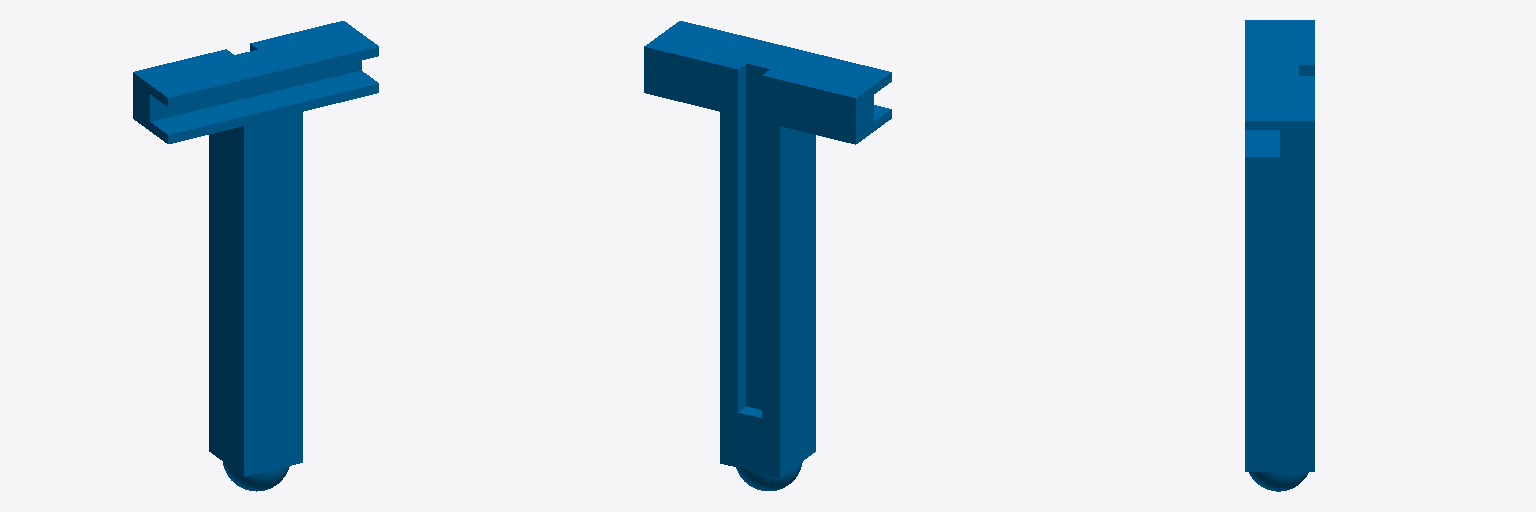
URDF robot description (BECOV2):
<robot name="BECOV2" version="1.0">
  <joint name="LEG_LEFT_LEFT_JOINT" type="prismatic">
    <limit lower="-0.0300" upper="0.00000" effort="1.00000" velocity="0.10000"/>
    <origin rpy="0.00000 0.00000 0.00000" xyz="-0.02465 -0.03079 -0.04494"/>
    <parent link="VISUAL_LEFTBODY_LINK"/>
    <child link="VISUAL_LEG_LEFT_LEFT_LINK"/>
    <axis xyz="0.00000 0.00000 1.00000"/>
  </joint>
  <joint name="LEG_LEFT_RIGHT_JOINT" type="prismatic">
    <limit lower="-0.0300" upper="0.00000" effort="1.00000" velocity="0.10000"/>
    <origin rpy="0.00000 0.00000 0.00000" xyz="0.02372 -0.03079 -0.04494"/>
    <parent link="VISUAL_LEFTBODY_LINK"/>
    <child link="VISUAL_LEG_LEFT_RIGHT_LINK"/>
    <axis xyz="0.00000 0.00000 1.00000"/>
  </joint>
  <joint name="LEG_RIGHT_LEFT_JOINT" type="prismatic">
    <limit lower="-0.0300" upper="0.00000" effort="1.00000" velocity="0.10000"/>
    <origin rpy="0.00000 0.00000 0.00000" xyz="0.02646 0.01264 -0.04295"/>
    <parent link="VISUAL_RIGHTBODY_LINK"/>
    <child link="VISUAL_LEG_RIGHT_LEFT_LINK"/>
    <axis xyz="0.00000 0.00000 1.00000"/>
  </joint>
  <joint name="LEG_RIGHT_RIGHT_JOINT" type="prismatic">
    <limit lower="-0.0300" upper="0.00000" effort="1.00000" velocity="0.10000"/>
    <origin rpy="0.00000 0.00000 0.00000" xyz="-0.02190 0.01264 -0.04295"/>
    <parent link="VISUAL_RIGHTBODY_LINK"/>
    <child link="VISUAL_LEG_RIGHT_RIGHT_LINK"/>
    <axis xyz="0.00000 0.00000 1.00000"/>
  </joint>
  <joint name="RIGHTBODY_JOINT" type="fixed">
    <origin rpy="0.00000 0.00000 0.00000" xyz="-0.00067 0.03262 -0.02065"/>
    <parent link="VISUAL_SHAFT_LINK"/>
    <child link="VISUAL_RIGHTBODY_LINK"/>
  </joint>
  <joint name="SHAFT_JOINT" type="prismatic">
    <limit lower="0.00000" upper="0.09000" effort="1.00000" velocity="0.10000"/>
    <origin rpy="0.00000 0.00000 0.00000" xyz="-0.00207 0.06764 0.01866"/>
    <parent link="VISUAL_LEFTBODY_LINK"/>
    <child link="VISUAL_SHAFT_LINK"/>
    <axis xyz="0.00000 1.00000 0.00000"/>
  </joint>
  <link name="VISUAL_LEFTBODY_LINK">
    <collision name="LEFTBODYC1">
      <origin rpy="0.00000 0.00000 0.00000" xyz="-0.00043 -0.01087 -0.00050"/>
      <geometry>
        <box size="0.07056 0.06465 0.02289"/>
      </geometry>
    </collision>
    <collision name="LEFTBODYC2">
      <origin rpy="0.00000 0.00000 0.00000" xyz="-0.00043 -0.01093 -0.03282"/>
      <geometry>
        <box size="0.02304 0.06465 0.03785"/>
      </geometry>
    </collision>
    <collision name="LEFTBODYC3">
      <origin rpy="0.00000 0.00000 0.00000" xyz="-0.03262 -0.01093 -0.03282"/>
      <geometry>
        <box size="0.00636 0.06465 0.03785"/>
      </geometry>
    </collision>
    <collision name="LEFTBODYC4">
      <origin rpy="0.00000 0.00000 0.00000" xyz="-0.01675 -0.01093 -0.03282"/>
      <geometry>
        <box size="0.00636 0.06465 0.03785"/>
      </geometry>
    </collision>
    <collision name="LEFTBODYC5">
      <origin rpy="0.00000 0.00000 0.00000" xyz="0.01559 -0.01093 -0.03282"/>
      <geometry>
        <box size="0.00636 0.06465 0.03785"/>
      </geometry>
    </collision>
    <collision name="LEFTBODYC6">
      <origin rpy="0.00000 0.00000 0.00000" xyz="0.03146 -0.01093 -0.03282"/>
      <geometry>
        <box size="0.00636 0.06465 0.03785"/>
      </geometry>
    </collision>
    <inertial>
      <inertia ixx="0.00100" ixy="0.00000" ixz="0.00000" iyy="0.00100" iyz="0.00000" izz="0.00100"/>
      <origin rpy="0.00000 0.00000 0.00000" xyz="-0.00036 -0.01043 -0.00849"/>
      <mass value="0.00100"/>
    </inertial>
    <visual name="LEFTBODY_VISUAL">
      <origin rpy="0.00000 -1.57080 0.00000" xyz="-0.00036 -0.01043 -0.00849"/>
      <geometry>
        <mesh filename="../meshes/LEFTBODY.stl" scale="1.00000 1.00000 1.00000"/>
      </geometry>
    </visual>
  </link>
  <link name="VISUAL_LEG_LEFT_LEFT_LINK">
    <collision name="LEG_LEFT_LEFTC1">
      <origin rpy="0.00000 0.00000 0.00000" xyz="0.00023 -0.00038 0.00817"/>
      <geometry>
        <box size="0.00636 0.00674 0.03892"/>
      </geometry>
    </collision>
    <collision name="LEG_LEFT_LEFTC2">
      <origin rpy="0.00000 0.00000 0.00000" xyz="0.00019 -0.00045 -0.01436"/>
      <geometry>
        <mesh filename="../meshes/Sphere.001.stl" scale="1.00000 1.00000 1.00000"/>
      </geometry>
    </collision>
    <inertial>
      <inertia ixx="0.00100" ixy="0.00000" ixz="0.00000" iyy="0.00100" iyz="0.00000" izz="0.00100"/>
      <origin rpy="0.00000 0.00000 0.00000" xyz="0.00019 -0.00045 -0.01199"/>
      <mass value="0.00100"/>
    </inertial>
    <visual name="LEG_LEFT_LEFT_VISUAL">
      <origin rpy="1.57080 0.00000 0.00000" xyz="0.00019 -0.00045 -0.01210"/>
      <geometry>
        <mesh filename="../meshes/LEG_LEFT_RIGHT.stl" scale="1.00000 1.00000 1.00000"/>
      </geometry>
    </visual>
  </link>
  <link name="VISUAL_LEG_LEFT_RIGHT_LINK">
    <collision name="LEG_LEFT_RIGHTC1">
      <origin rpy="0.00000 0.00000 0.00000" xyz="-0.00045 -0.00038 0.00817"/>
      <geometry>
        <box size="0.00636 0.00674 0.03892"/>
      </geometry>
    </collision>
    <collision name="LEG_LEFT_RIGHTC2">
      <origin rpy="0.00000 0.00000 0.00000" xyz="-0.00041 -0.00045 -0.01436"/>
      <geometry>
        <mesh filename="../meshes/Sphere.002.stl" scale="1.00000 1.00000 1.00000"/>
      </geometry>
    </collision>
    <inertial>
      <inertia ixx="0.00100" ixy="0.00000" ixz="0.00000" iyy="0.00100" iyz="0.00000" izz="0.00100"/>
      <origin rpy="0.00000 0.00000 0.00000" xyz="-0.00030 -0.00045 -0.01199"/>
      <mass value="0.00100"/>
    </inertial>
    <visual name="LEG_LEFT_RIGHT_VISUAL">
      <origin rpy="1.57080 0.00000 0.00000" xyz="-0.00030 -0.00045 -0.01210"/>
      <geometry>
        <mesh filename="../meshes/LEG_LEFT_LEFT.stl" scale="1.00000 1.00000 1.00000"/>
      </geometry>
    </visual>
  </link>
  <link name="VISUAL_LEG_RIGHT_LEFT_LINK">
    <collision name="LEG_RIGHT_LEFTC1">
      <origin rpy="-0.00000 0.00000 0.00000" xyz="-0.00024 0.00047 0.00817"/>
      <geometry>
        <box size="0.00636 0.00674 0.03892"/>
      </geometry>
    </collision>
    <collision name="LEG_RIGHT_LEFTC2">
      <origin rpy="-0.00000 0.00000 0.00000" xyz="-0.00027 0.00041 -0.01436"/>
      <geometry>
        <mesh filename="../meshes/Sphere.004.stl" scale="1.00000 1.00000 1.00000"/>
      </geometry>
    </collision>
    <inertial>
      <inertia ixx="0.00100" ixy="0.00000" ixz="0.00000" iyy="0.00100" iyz="0.00000" izz="0.00100"/>
      <origin rpy="0.00000 0.00000 0.00000" xyz="-0.00030 0.00035 -0.01199"/>
      <mass value="0.00100"/>
    </inertial>
    <visual name="LEG_RIGHT_LEFT_VISUAL">
      <origin rpy="1.57080 -0.00000 -3.14159" xyz="-0.00030 0.00035 -0.01199"/>
      <geometry>
        <mesh filename="../meshes/LEG_RIGHT_RIGHT.stl" scale="1.00000 1.00000 1.00000"/>
      </geometry>
    </visual>
  </link>
  <link name="VISUAL_LEG_RIGHT_RIGHT_LINK">
    <collision name="LEG_RIGHT_RIGHTC1">
      <origin rpy="-0.00000 0.00000 0.00000" xyz="0.00023 0.00047 0.00817"/>
      <geometry>
        <box size="0.00636 0.00674 0.03892"/>
      </geometry>
    </collision>
    <collision name="LEG_RIGHT_RIGHTC2">
      <origin rpy="-0.00000 0.00000 0.00000" xyz="0.00019 0.00041 -0.01436"/>
      <geometry>
        <mesh filename="../meshes/Sphere.003.stl" scale="1.00000 1.00000 1.00000"/>
      </geometry>
    </collision>
    <inertial>
      <inertia ixx="0.00100" ixy="0.00000" ixz="0.00000" iyy="0.00100" iyz="0.00000" izz="0.00100"/>
      <origin rpy="0.00000 0.00000 0.00000" xyz="0.00019 0.00035 -0.01199"/>
      <mass value="0.00100"/>
    </inertial>
    <visual name="LEG_RIGHT_RIGHT_VISUAL">
      <origin rpy="1.57080 -0.00000 -3.14159" xyz="0.00019 0.00035 -0.01199"/>
      <geometry>
        <mesh filename="../meshes/LEG_RIGHT_RIGHT.001.stl" scale="1.00000 1.00000 1.00000"/>
      </geometry>
    </visual>
  </link>
  <link name="VISUAL_RIGHTBODY_LINK">
    <collision name="RIGHTBODYC1">
      <origin rpy="0.00000 0.00000 0.00000" xyz="0.00232 -0.00400 0.00149"/>
      <geometry>
        <box size="0.07056 0.06465 0.02289"/>
      </geometry>
    </collision>
    <collision name="RIGHTBODYC2">
      <origin rpy="0.00000 0.00000 0.00000" xyz="0.00232 -0.00412 -0.03084"/>
      <geometry>
        <box size="0.02304 0.06465 0.03785"/>
      </geometry>
    </collision>
    <collision name="RIGHTBODYC3">
      <origin rpy="0.00000 0.00000 0.00000" xyz="-0.02988 -0.00412 -0.03084"/>
      <geometry>
        <box size="0.00636 0.06465 0.03785"/>
      </geometry>
    </collision>
    <collision name="RIGHTBODYC4">
      <origin rpy="0.00000 0.00000 0.00000" xyz="-0.01401 -0.00412 -0.03084"/>
      <geometry>
        <box size="0.00636 0.06465 0.03785"/>
      </geometry>
    </collision>
    <collision name="RIGHTBODYC5">
      <origin rpy="0.00000 0.00000 0.00000" xyz="0.01834 -0.00412 -0.03084"/>
      <geometry>
        <box size="0.00636 0.06465 0.03785"/>
      </geometry>
    </collision>
    <collision name="RIGHTBODYC6">
      <origin rpy="0.00000 0.00000 0.00000" xyz="0.03421 -0.00412 -0.03084"/>
      <geometry>
        <box size="0.00636 0.06465 0.03785"/>
      </geometry>
    </collision>
    <inertial>
      <inertia ixx="0.00100" ixy="0.00000" ixz="0.00000" iyy="0.00100" iyz="0.00000" izz="0.00100"/>
      <origin rpy="0.00000 0.00000 0.00000" xyz="0.00185 -0.01699 0.01912"/>
      <mass value="0.00100"/>
    </inertial>
    <visual name="RIGHTBODY_VISUAL">
      <origin rpy="-3.14159 -1.57080 0.00000" xyz="0.00185 -0.01699 -0.02163"/>
      <geometry>
        <mesh filename="../meshes/RIGHTBODY.stl" scale="1.00000 1.00000 1.00000"/>
      </geometry>
    </visual>
  </link>
  <link name="VISUAL_SHAFT_LINK">
    <collision name="SHAFTC1">
      <origin rpy="0.00000 0.00000 0.00000" xyz="-0.00009 -0.00797 -0.00153"/>
      <geometry>
        <box size="0.01140 0.11669 0.01140"/>
      </geometry>
    </collision>
    <inertial>
      <inertia ixx="0.00100" ixy="0.00000" ixz="0.00000" iyy="0.00100" iyz="0.00000" izz="0.00100"/>
      <origin rpy="0.00000 0.00000 0.00000" xyz="-0.00003 -0.00366 -0.00153"/>
      <mass value="0.00100"/>
    </inertial>
    <visual name="SHAFT_VISUAL">
      <origin rpy="0.00000 0.00000 0.00000" xyz="-0.00003 -0.00366 -0.00153"/>
      <geometry>
        <mesh filename="../meshes/SHAFT.stl" scale="1.00000 1.00000 1.00000"/>
      </geometry>
    </visual>
  </link>
</robot>

--- What the picture shows (computed from the rendered views, not written in the file) ---
Views: 3 orthographic renders of the robot side by side, from view 1: azimuth 30°, elevation 25°; view 2: azimuth 150°, elevation 25°; view 3: azimuth 270°, elevation 25°.
Model BECOV2 with 7 links and 6 joints (5 prismatic, 1 fixed), rooted at VISUAL_LEFTBODY_LINK, posed all joints at 0.
Visible links, largest first — view 1: VISUAL_LEG_RIGHT_RIGHT_LINK; view 2: VISUAL_LEG_RIGHT_RIGHT_LINK; view 3: VISUAL_LEG_RIGHT_RIGHT_LINK.
Boxes of the visible links, <box> form: VISUAL_LEG_RIGHT_RIGHT_LINK: <box>133,21,378,491</box>; VISUAL_LEG_RIGHT_RIGHT_LINK: <box>644,21,891,490</box>; VISUAL_LEG_RIGHT_RIGHT_LINK: <box>1245,20,1314,491</box>.
Size in the robot's own frame: 0.0226 by 0.0066 by 0.0438 metres.
1 mesh visuals loaded from 7 distinct referenced files (1 binary STL); not drawn: 6 (reference not matched to a file when rendering).